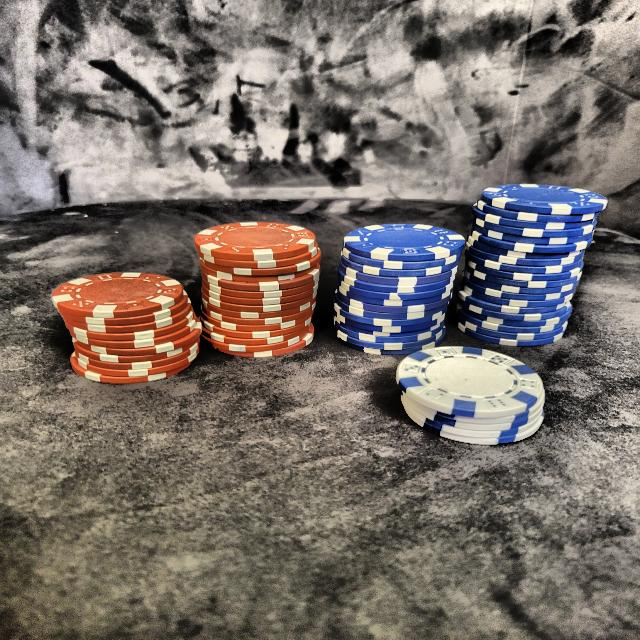Chip: (455, 167, 606, 360), (51, 248, 206, 397), (333, 208, 463, 369), (392, 324, 550, 456), (191, 212, 329, 358)
